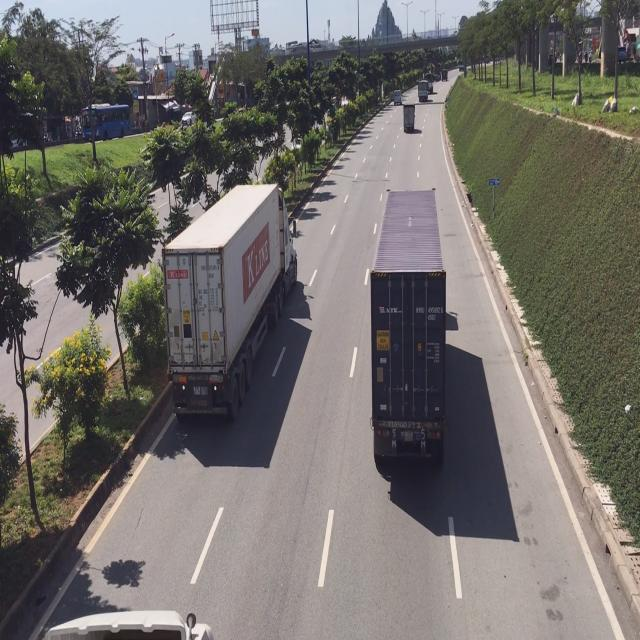truck: (164, 180, 294, 423), (370, 188, 450, 473), (34, 609, 210, 640), (403, 104, 416, 136), (419, 82, 432, 105)
